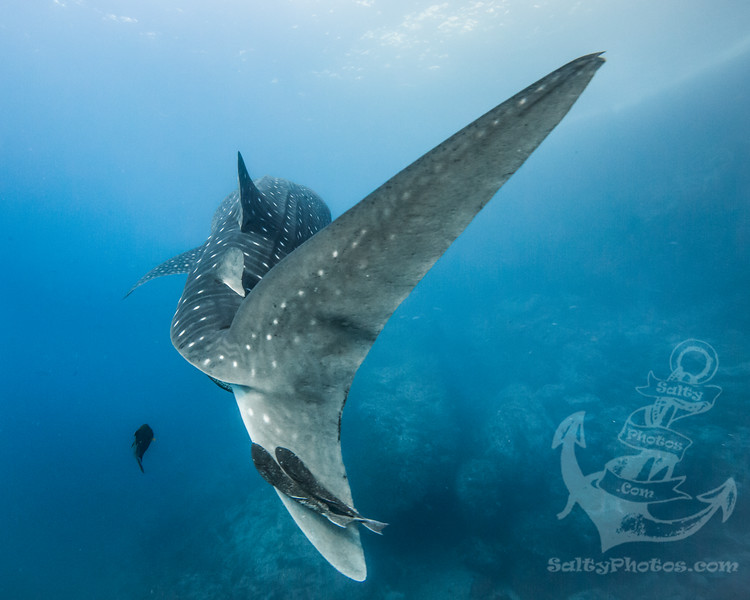Rhincodon_typusw: (128, 38, 613, 585)
